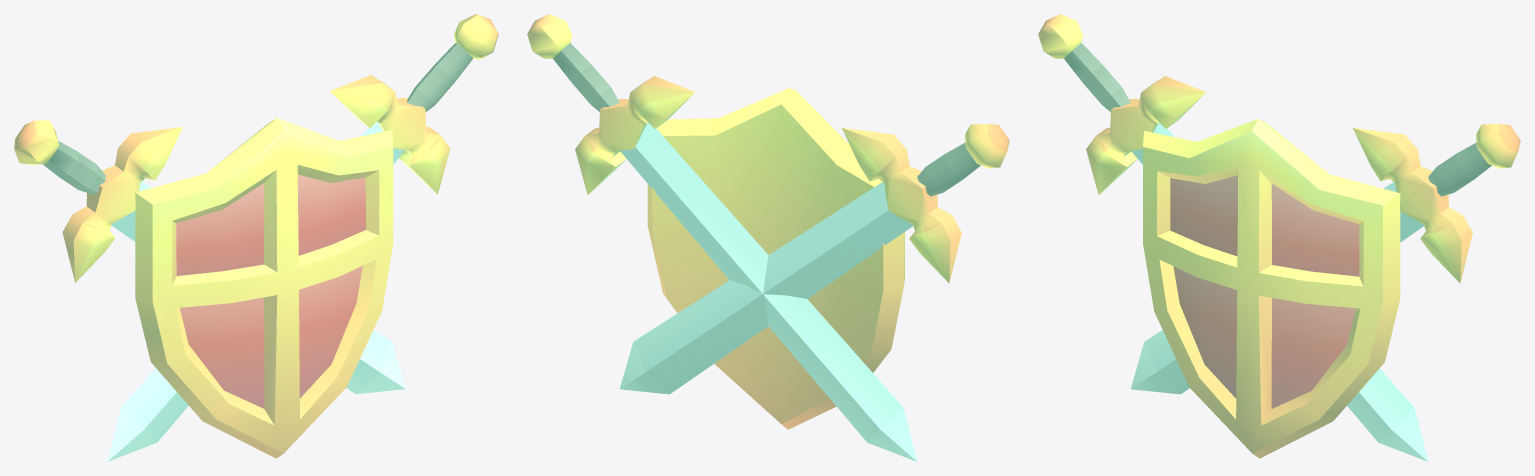
Rendered from environment_core.glb.
3 renders of one model, left to right at view 1: azimuth 30°, elevation 25°; view 2: azimuth 150°, elevation 25°; view 3: azimuth 330°, elevation 25°, orthographic.
Visible parts, largest first — view 1: sword_shield_gold; view 2: sword_shield_gold; view 3: sword_shield_gold.
Boxes of the visible parts, x1=… form: sword_shield_gold: x1=14, y1=14, x2=498, y2=461; sword_shield_gold: x1=527, y1=14, x2=1009, y2=461; sword_shield_gold: x1=1038, y1=14, x2=1520, y2=461.
Size of the model in its own units: 1.34 by 1 by 0.2014.
Materials: 1 (1 with a texture image).
